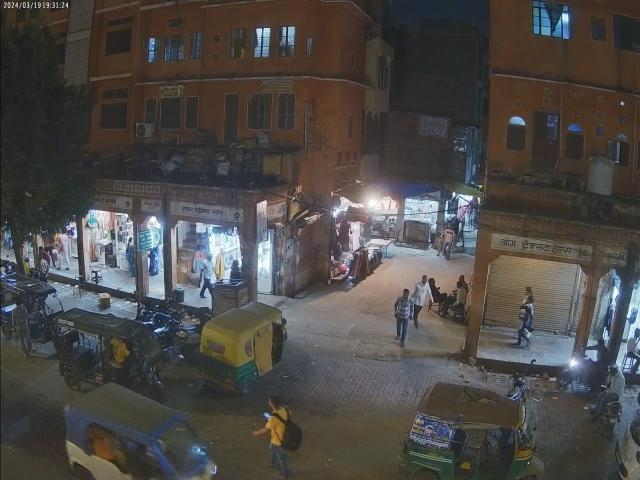auto: (65, 380, 218, 480), (398, 380, 542, 480), (54, 309, 168, 401), (196, 302, 288, 392), (0, 272, 55, 354)
person: (250, 394, 297, 480), (516, 284, 537, 350), (410, 275, 429, 326), (394, 286, 407, 354), (197, 252, 214, 296), (448, 276, 466, 311), (124, 237, 136, 280), (430, 278, 448, 304)
